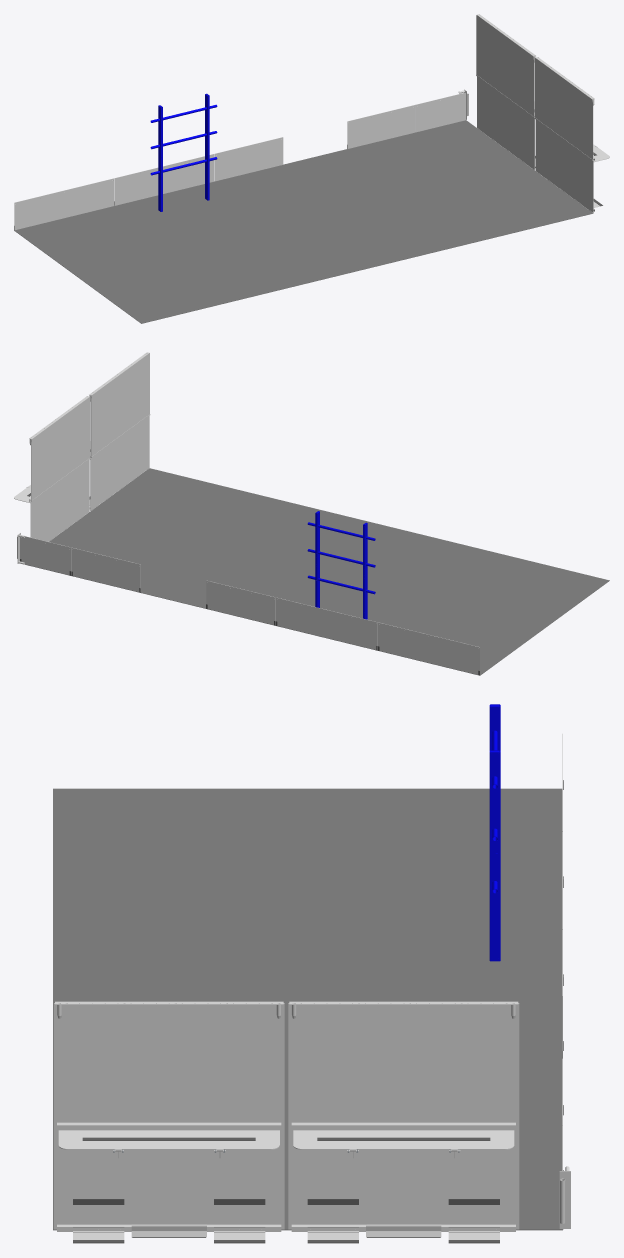
3 views of the same model, one above another, from view 1: azimuth 30°, elevation 25°; view 2: azimuth 150°, elevation 25°; view 3: azimuth 270°, elevation 25° (orthographic). The views are drawn at different scales.
Visible parts, largest first — view 1: FE-2026-01: Playing Field Carpet:1, FE-00012: Driver Station Acrylic:5, FE-00012: Driver Station Acrylic:4, FE-00004-01: 3/16" Diamond Plate Sheet, 6061 Aluminum:5, FE-00004-01: 3/16" Diamond Plate Sheet, 6061 Aluminum:4, FE-00010: Field Plastic "C":4, FE-00010: Field Plastic "C":1, FE-00009: Field Plastic "B":1, FE-00009: Field Plastic "B":4, FE-00008: Field Plastic "A":1; view 2: FE-2026-01: Playing Field Carpet:1, FE-00012: Driver Station Acrylic:4, FE-00012: Driver Station Acrylic:5, FE-00004-01: 3/16" Diamond Plate Sheet, 6061 Aluminum:5, FE-00004-01: 3/16" Diamond Plate Sheet, 6061 Aluminum:4, FE-00010: Field Plastic "C":1, FE-00010: Field Plastic "C":4, FE-00009: Field Plastic "B":1, FE-00009: Field Plastic "B":4, FE-00008: Field Plastic "A":1; view 3: FE-2026-01: Playing Field Carpet:1, FE-00012: Driver Station Acrylic:4, FE-00012: Driver Station Acrylic:5, FE-00004-01: 3/16" Diamond Plate Sheet, 6061 Aluminum:4, FE-00004-01: 3/16" Diamond Plate Sheet, 6061 Aluminum:5, FE-00004-06: 1/4" Sheet, 6061 Aluminum:4, FE-00004-06: 1/4" Sheet, 6061 Aluminum:5, GE-26502-01: Tower Upright Outer (1):2, FE-00004-04: 1-3/4" x 1/8" Square Tube, 6061 Aluminum:8, FE-00004-04: 1-3/4" x 1/8" Square Tube, 6061 Aluminum:10, FE-00007-01: 2" x 2" x 1/8" Square Corner 6063 Aluminum Angl (×2), FE-00070: Field Border Anchor:4 (+1 smaller).
Boxes of the visible parts, bbox=[...] form: FE-2026-01: Playing Field Carpet:1: bbox=[14, 120, 593, 323]; FE-00012: Driver Station Acrylic:5: bbox=[535, 58, 593, 160]; FE-00012: Driver Station Acrylic:4: bbox=[476, 15, 534, 117]; FE-00004-01: 3/16" Diamond Plate Sheet, 6061 Aluminum:5: bbox=[535, 119, 593, 212]; FE-00004-01: 3/16" Diamond Plate Sheet, 6061 Aluminum:4: bbox=[477, 76, 534, 169]; FE-00010: Field Plastic "C":4: bbox=[14, 178, 114, 230]; FE-00010: Field Plastic "C":1: bbox=[114, 154, 214, 205]; FE-00009: Field Plastic "B":1: bbox=[347, 105, 415, 148]; FE-00009: Field Plastic "B":4: bbox=[215, 137, 283, 181]; FE-00008: Field Plastic "A":1: bbox=[415, 92, 465, 132]; FE-2026-01: Playing Field Carpet:1: bbox=[25, 468, 609, 675]; FE-00012: Driver Station Acrylic:4: bbox=[31, 397, 90, 501]; FE-00012: Driver Station Acrylic:5: bbox=[90, 356, 149, 457]; FE-00004-01: 3/16" Diamond Plate Sheet, 6061 Aluminum:5: bbox=[90, 416, 149, 510]; FE-00004-01: 3/16" Diamond Plate Sheet, 6061 Aluminum:4: bbox=[30, 459, 89, 541]; FE-00010: Field Plastic "C":1: bbox=[276, 597, 377, 649]; FE-00010: Field Plastic "C":4: bbox=[378, 622, 479, 674]; FE-00009: Field Plastic "B":1: bbox=[71, 547, 140, 592]; FE-00009: Field Plastic "B":4: bbox=[206, 580, 275, 625]; FE-00008: Field Plastic "A":1: bbox=[20, 536, 71, 575]; FE-2026-01: Playing Field Carpet:1: bbox=[53, 788, 562, 1230]; FE-00012: Driver Station Acrylic:4: bbox=[288, 1003, 519, 1122]; FE-00012: Driver Station Acrylic:5: bbox=[54, 1003, 284, 1122]; FE-00004-01: 3/16" Diamond Plate Sheet, 6061 Aluminum:4: bbox=[288, 1125, 519, 1229]; FE-00004-01: 3/16" Diamond Plate Sheet, 6061 Aluminum:5: bbox=[54, 1125, 284, 1229]; FE-00004-06: 1/4" Sheet, 6061 Aluminum:4: bbox=[293, 1130, 514, 1149]; FE-00004-06: 1/4" Sheet, 6061 Aluminum:5: bbox=[58, 1130, 279, 1149]; GE-26502-01: Tower Upright Outer (1):2: bbox=[489, 751, 500, 961]; FE-00004-04: 1-3/4" x 1/8" Square Tube, 6061 Aluminum:8: bbox=[291, 1122, 515, 1130]; FE-00004-04: 1-3/4" x 1/8" Square Tube, 6061 Aluminum:10: bbox=[57, 1122, 281, 1130]; FE-00007-01: 2" x 2" x 1/8" Square Corner 6063 Aluminum Angl (×2): bbox=[55, 1001, 518, 1004]; FE-00070: Field Border Anchor:4: bbox=[366, 1224, 441, 1237].
Size of the model in its own units: 8.64 by 1.99 by 4.1.
